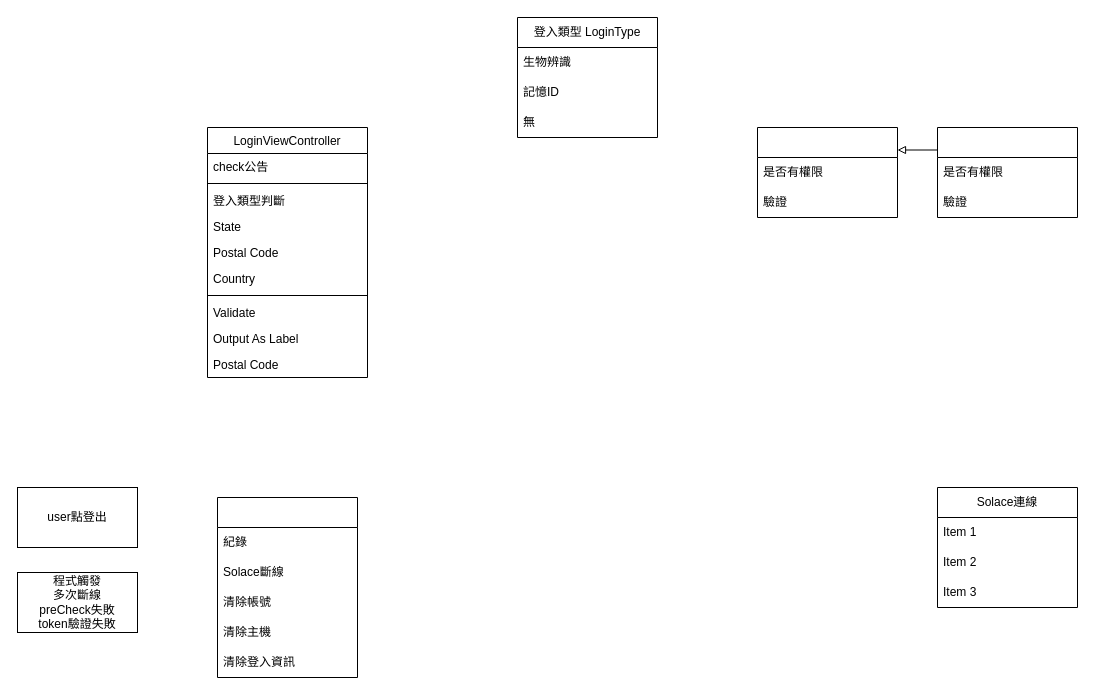
Image size: 1095x695. Some labels were removed from this diagram. The box of each missing label's shape, as (x1, y1, x2, y2) in pixels:
<生物辨識>: (756, 126, 898, 218)
生物辨識 Biometrics: (936, 126, 1078, 218)
登出: (216, 496, 358, 678)
